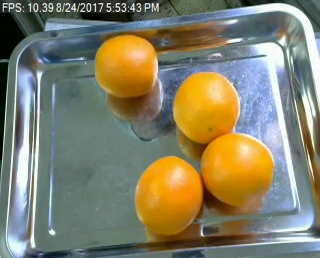Orange: (134, 155, 202, 235), (200, 132, 274, 205), (172, 70, 239, 144), (94, 34, 158, 99)
